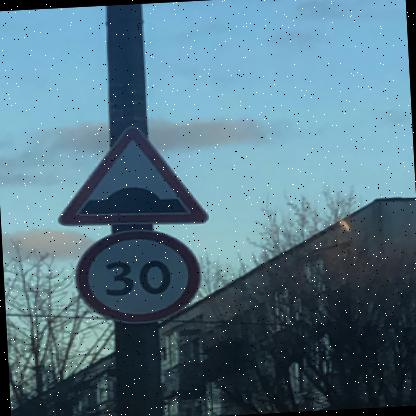speedlimit: (70, 226, 202, 324)
